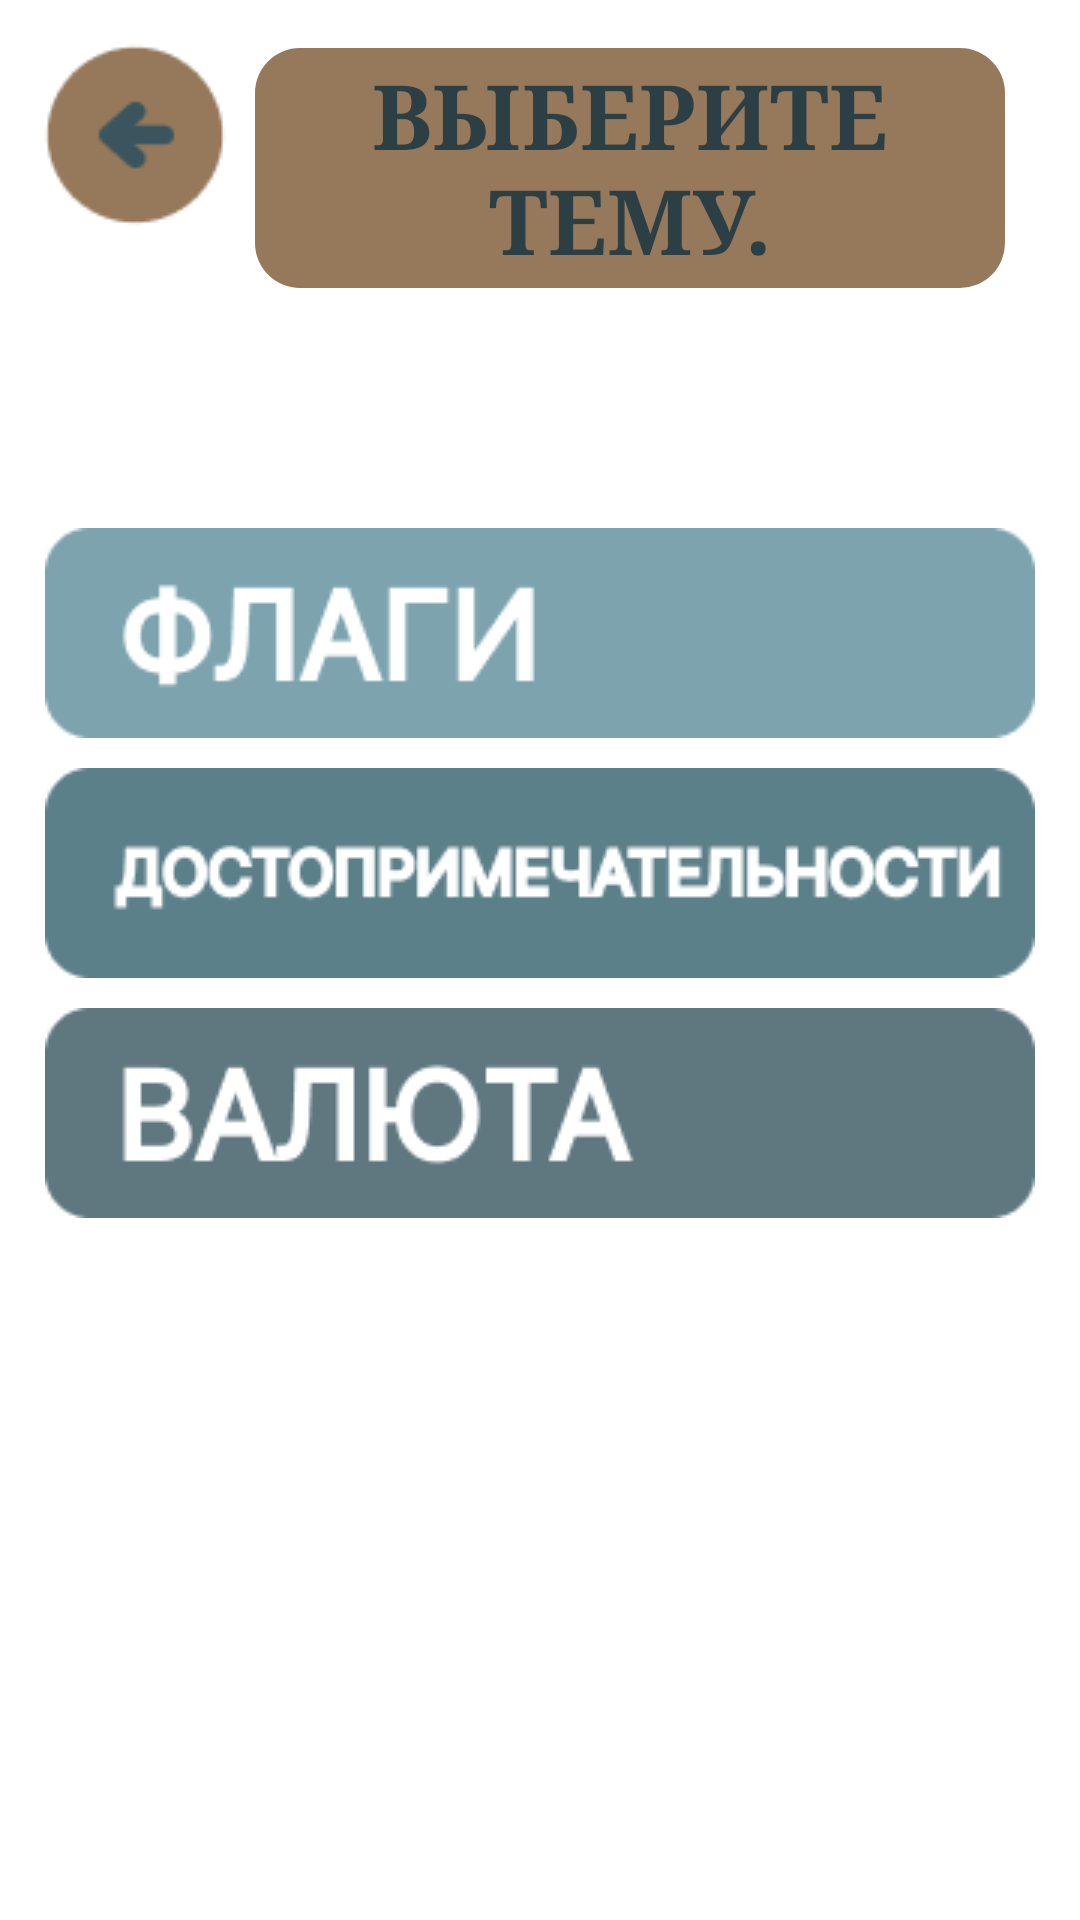

Named icons in this screenshot (1080w x 1920h) and their centers, (x=x, y=y):
arrow: (x=135, y=135)
